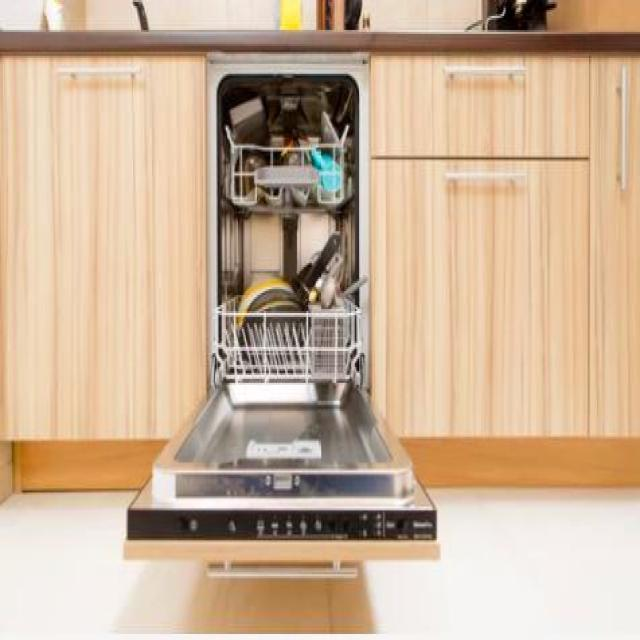dishwasher: (124, 50, 444, 582)
